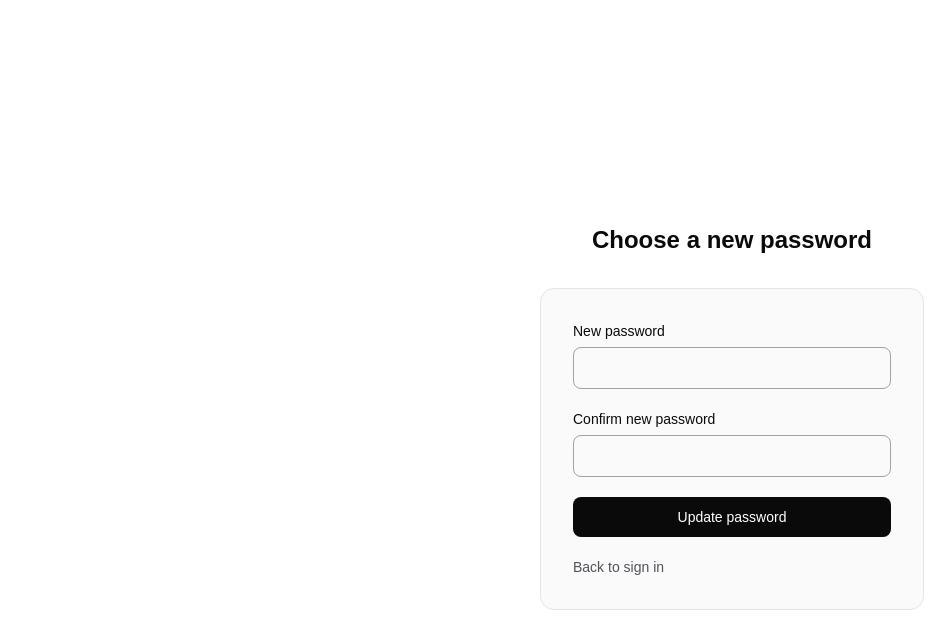
it: updates the password for the recovered session
The image size is (941, 627).
Type "new-password" into the password field labelled "New password" at (732, 368), box x1=573 y1=347 x2=891 y2=389
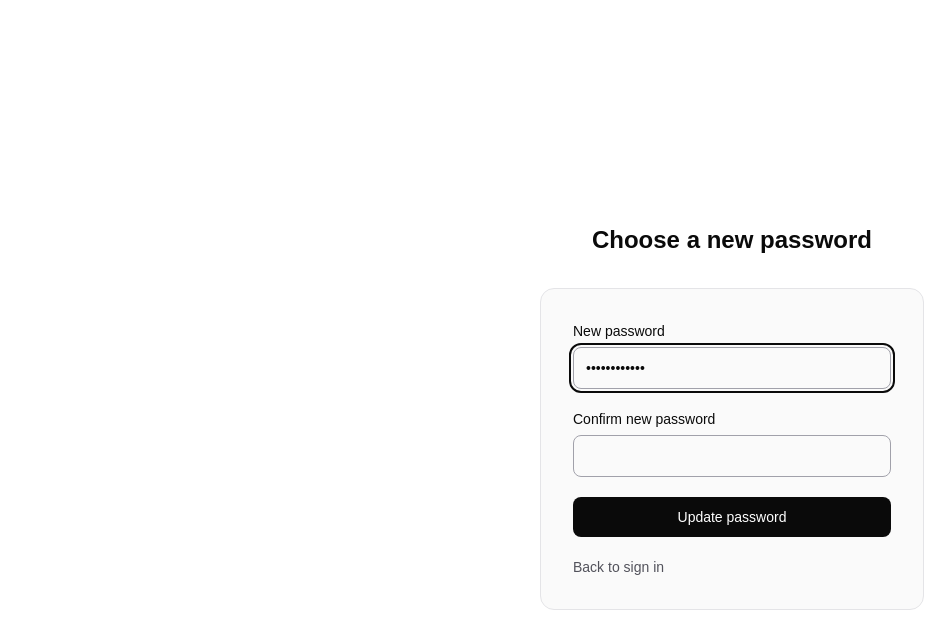
Type "new-password" into the password field labelled "Confirm new password" at (732, 456), box x1=573 y1=435 x2=891 y2=477
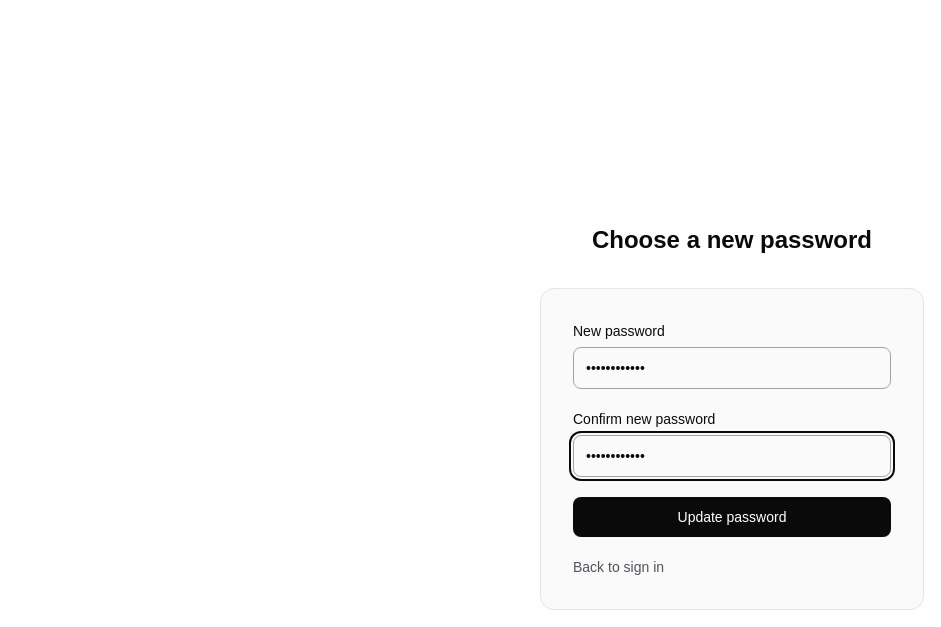
Click the button "Update password" at (732, 517), box x1=573 y1=497 x2=891 y2=537
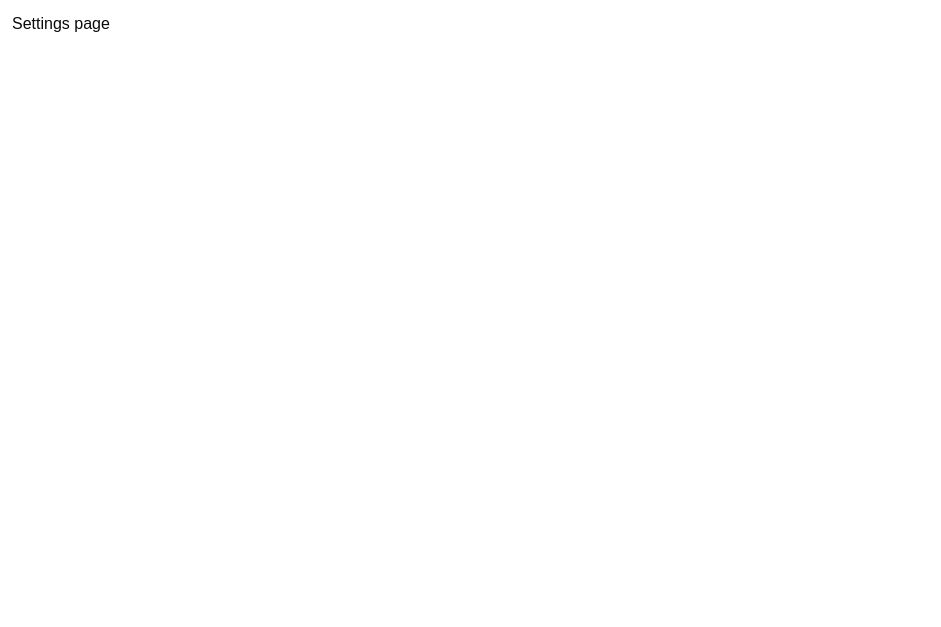
Expected: the text "Settings page" is shown, x1=12 y1=15 x2=110 y2=32
